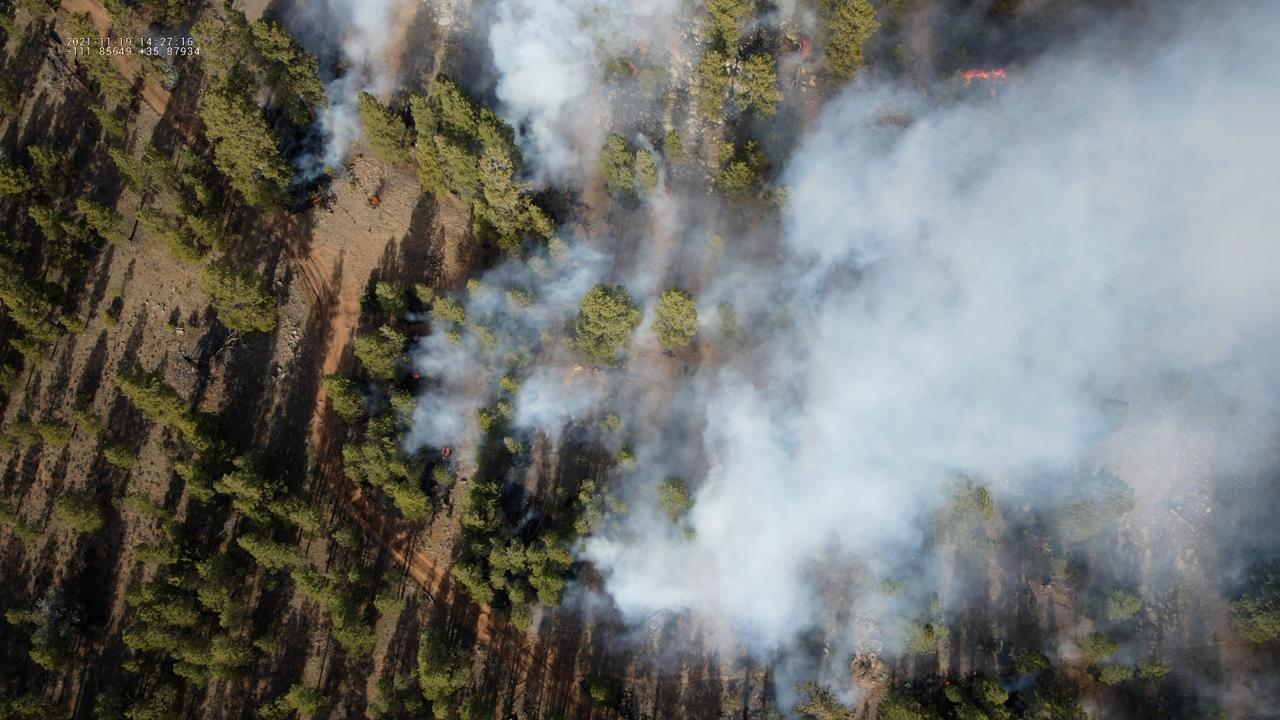fire: (960, 68, 1008, 98), (798, 38, 814, 60), (628, 60, 640, 78), (440, 447, 453, 459), (369, 197, 381, 207), (311, 196, 320, 206), (412, 371, 421, 379), (943, 679, 951, 687)
smoke: (250, 0, 1280, 720), (146, 26, 195, 61)
